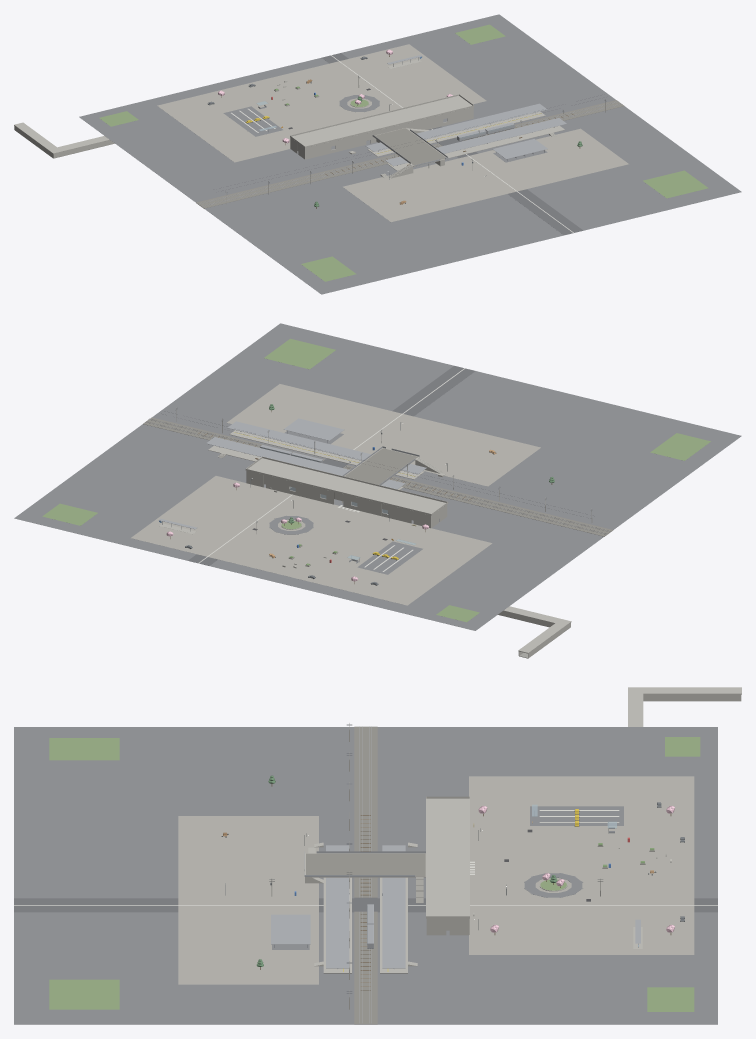
Rendered from zone_3.glb.
The picture shows the model from 3 angles, top to bottom: view 1: azimuth 30°, elevation 25°; view 2: azimuth 150°, elevation 25°; view 3: azimuth 270°, elevation 25°; orthographic projection. The views are drawn at different scales.
Visible parts, largest first — view 1: zone_akitsu_z3; view 2: zone_akitsu_z3; view 3: zone_akitsu_z3.
Part boxes in pixels (<box>): zone_akitsu_z3: <box>14,14,741,294</box>; zone_akitsu_z3: <box>14,323,741,658</box>; zone_akitsu_z3: <box>14,687,741,1024</box>.
Size of the model in its own units: 340 by 12.9 by 310.
